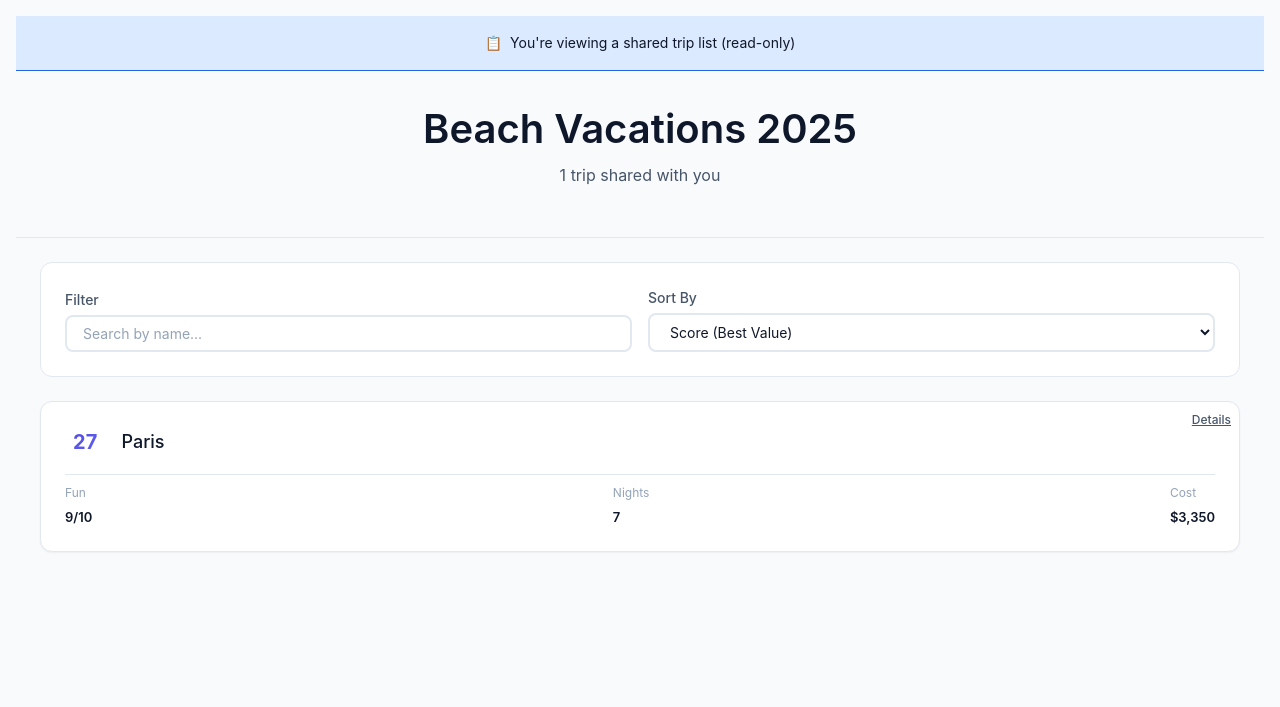
Test: shared trips › verifies trip ID string comparison works correctly
Click the link "Details". click: (1212, 420)
box: [1192, 410, 1231, 429]
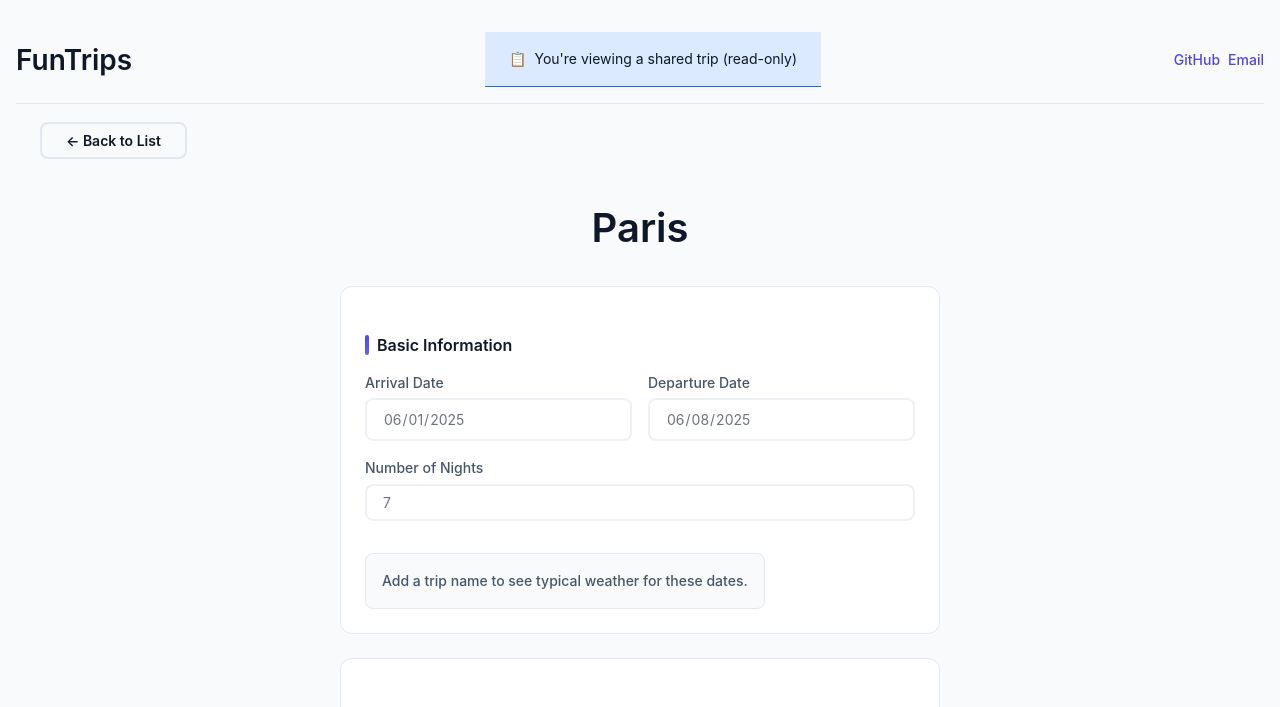
Expected: the heading "Paris" is shown, [592, 203, 688, 252]
